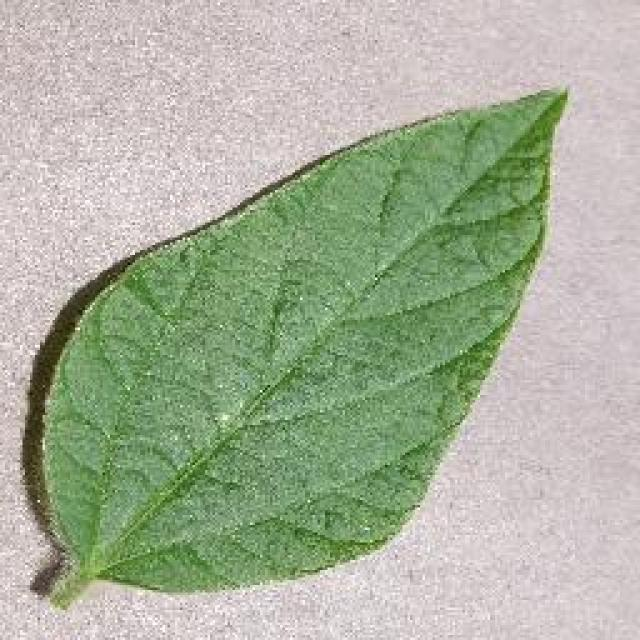Soy_healthy: (55, 118, 494, 560)
